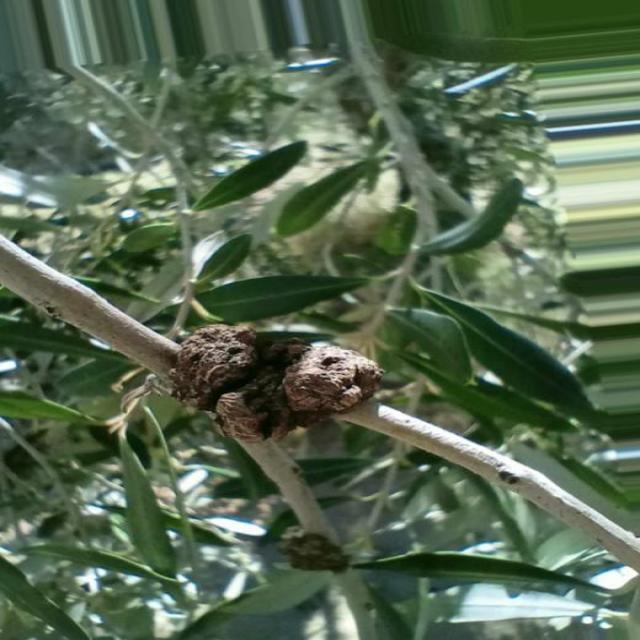Tuberculosis: (172, 324, 382, 440)
